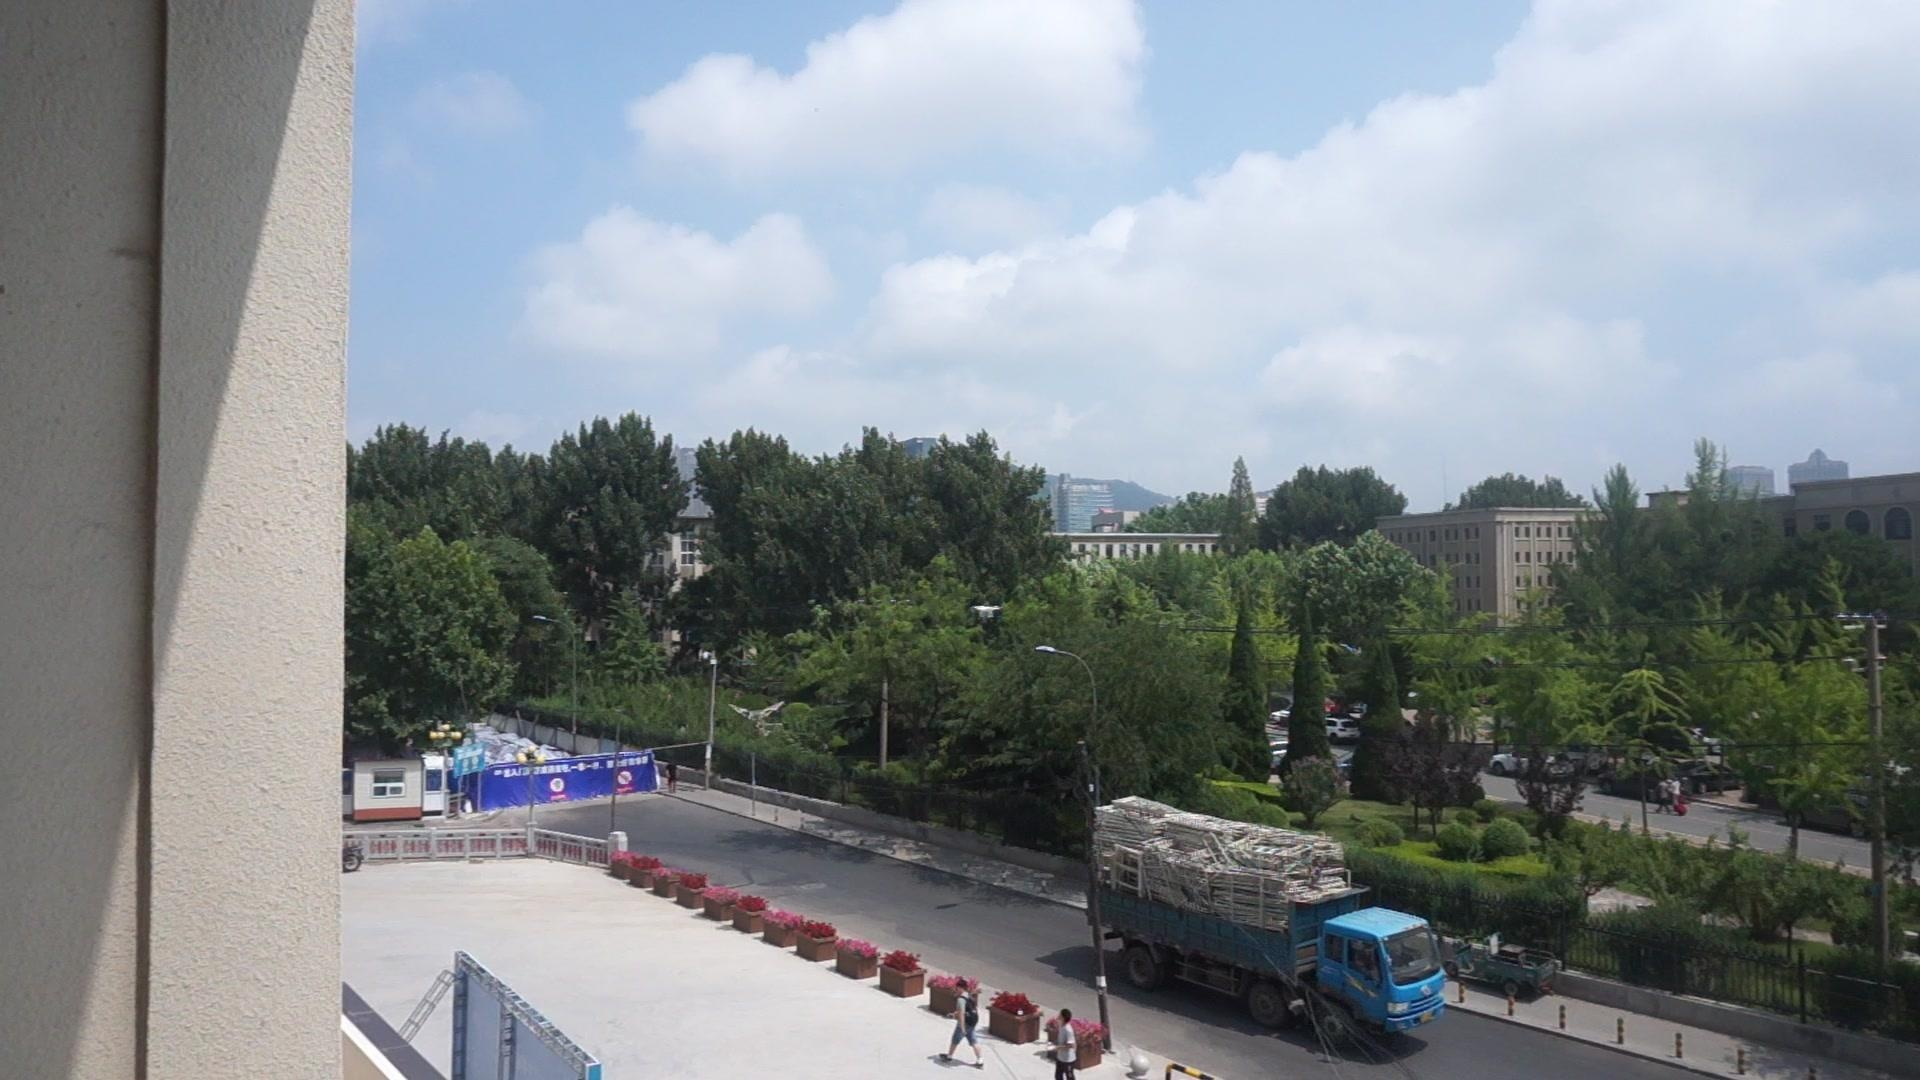UAV: (973, 607, 1001, 618)
